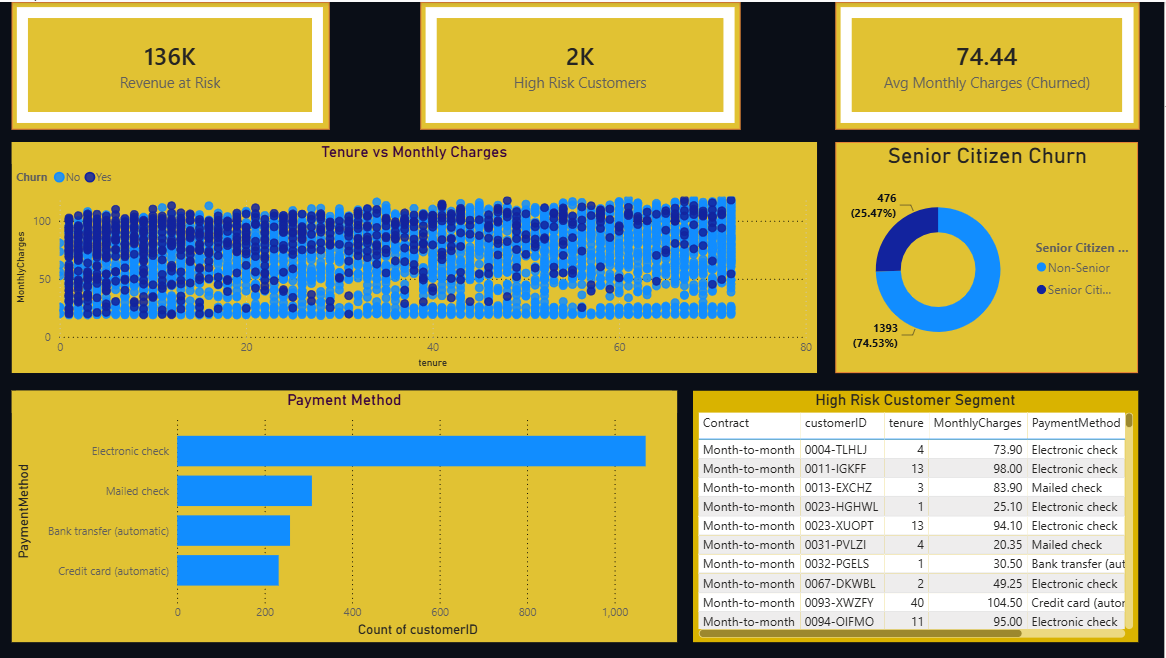

What the dashboard file says about the page in this screenshot:
{"tool":"powerbi","page":{"name":"Risk Segmentation","canvas":[1280,720],"ordinal":1},"visuals":[{"type":"cardVisual","fields":{"Data":["telco_churn_cleaned.Revenue at Risk"]},"box":[15.1,0,348.5,140],"z":0},{"type":"cardVisual","fields":{"Data":["telco_churn_cleaned.High Risk Customers"]},"box":[463.8,0,351.3,140],"z":1000},{"type":"cardVisual","fields":{"Data":["telco_churn_cleaned.Avg Monthly Charges (Churned)"]},"box":[919.4,0,333.4,140],"z":2000},{"type":"scatterChart","title":"Tenure vs Monthly Charges","fields":{"X":["telco_churn_cleaned.tenure"],"Y":["telco_churn_cleaned.MonthlyCharges"],"Series":["telco_churn_cleaned.Churn"]},"box":[15.1,153.7,883.7,253.9],"z":3000},{"type":"clusteredBarChart","title":"Payment Method","fields":{"Category":["telco_churn_cleaned.PaymentMethod"],"Y":["CountNonNull(telco_churn_cleaned.customerID)"]},"box":[15.1,426.8,730,275.8],"z":4000},{"type":"donutChart","title":"Senior Citizen Churn","fields":{"Y":["CountNonNull(telco_churn_cleaned.customerID)"],"Category":["telco_churn_cleaned.Senior Citizen Label"]},"box":[919.4,153.7,332.1,253.9],"z":5000},{"type":"tableEx","title":"High Risk Customer Segment","fields":{"Values":["telco_churn_cleaned.Contract","telco_churn_cleaned.customerID","telco_churn_cleaned.tenure","telco_churn_cleaned.MonthlyCharges","telco_churn_cleaned.PaymentMethod","telco_churn_cleaned.InternetService"]},"box":[763,426.8,488.5,275.8],"z":6000}]}

Visuals, with their boxes in screenshot pixels (x1, y1, x2, y2), scaled from the page's 1280x720 canvas onto the 1166x658 screenshot:
cardVisual - telco_churn_cleaned.Revenue at Risk: locate(14, 0, 331, 128)
cardVisual - telco_churn_cleaned.High Risk Customers: locate(422, 0, 743, 128)
cardVisual - telco_churn_cleaned.Avg Monthly Charges (Churned): locate(838, 0, 1141, 128)
"Tenure vs Monthly Charges" scatterChart: locate(14, 140, 819, 373)
"Payment Method" clusteredBarChart: locate(14, 390, 679, 642)
"Senior Citizen Churn" donutChart: locate(838, 140, 1140, 373)
"High Risk Customer Segment" tableEx: locate(695, 390, 1140, 642)
